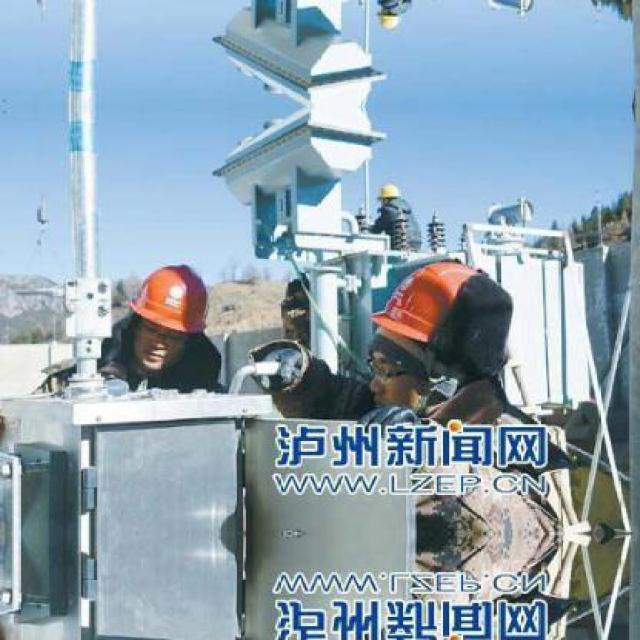helmet: (365, 258, 518, 407), (129, 257, 209, 364), (374, 177, 404, 207), (374, 5, 404, 35)
